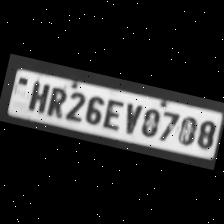0: (135, 103, 163, 140), (174, 112, 200, 148)
2: (61, 88, 88, 123)
6: (80, 92, 106, 126)
7: (154, 108, 180, 144)
8: (192, 115, 220, 152)
E: (100, 96, 125, 130)
H: (23, 77, 50, 114)
R: (43, 82, 68, 118)
V: (118, 99, 142, 135)
